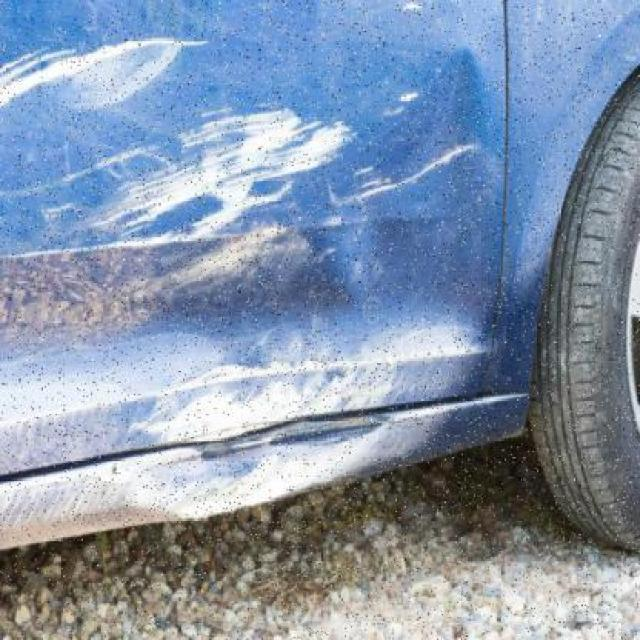RunningBoard-Dent: (0, 415, 515, 512)
doorouter-dent: (0, 0, 494, 408)
